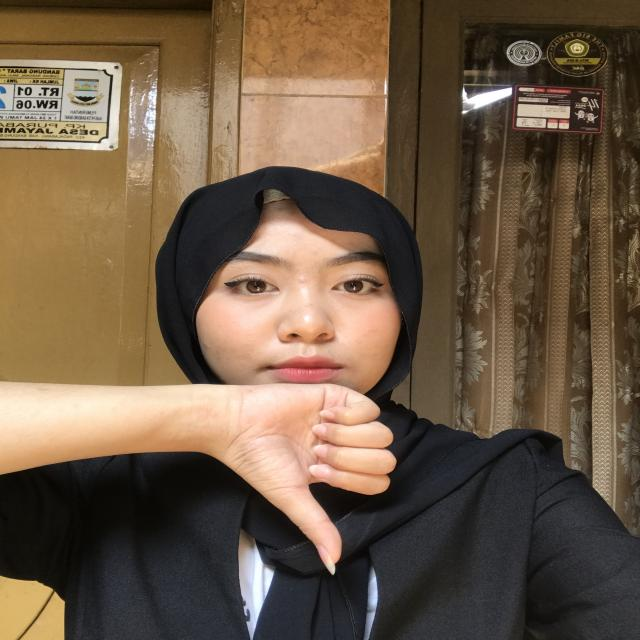sedih: (204, 346, 461, 595)
